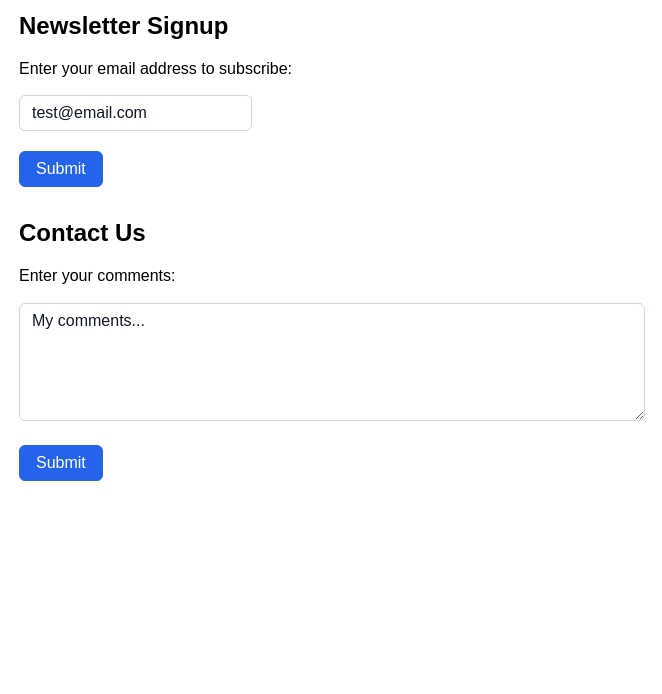
State Isolation render optimization › keeps sibling render counts isolated when each form is submitted
This screenshot has width=662, height=694.
Expected: the form with test id "newsletter-form" is shown, x1=19 y1=60 x2=292 y2=187
Expected: the form with test id "contact-form" is shown, x1=19 y1=267 x2=645 y2=481
# Submit "Newsletter" form
Click the button "Submit" below "Enter your email address to subscribe:" at x=61, y=169, box x1=19 y1=151 x2=103 y2=187
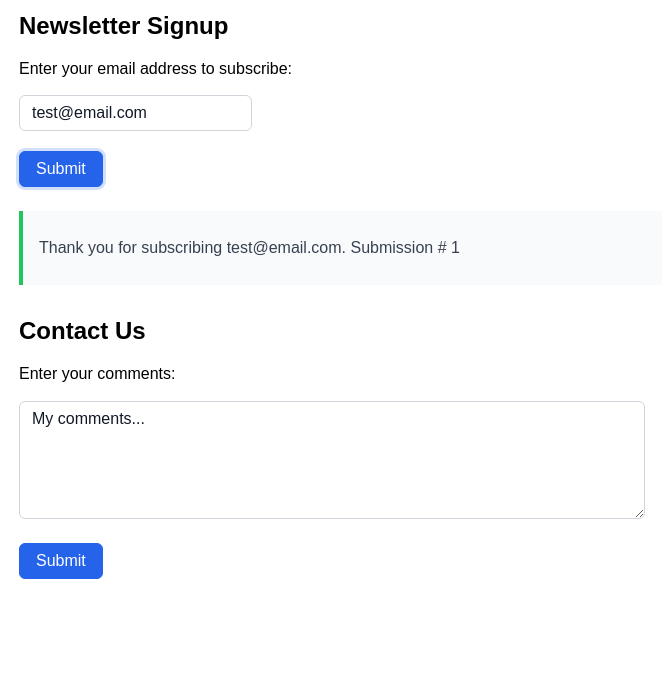
Result: the text "Thank you for subscribing test@email.com. Submission # 1" is shown at x1=39 y1=239 x2=460 y2=256
# Submit "Contact Us" form
Click the button "Submit" below "Enter your comments:" at x=61, y=561, box x1=19 y1=543 x2=103 y2=579
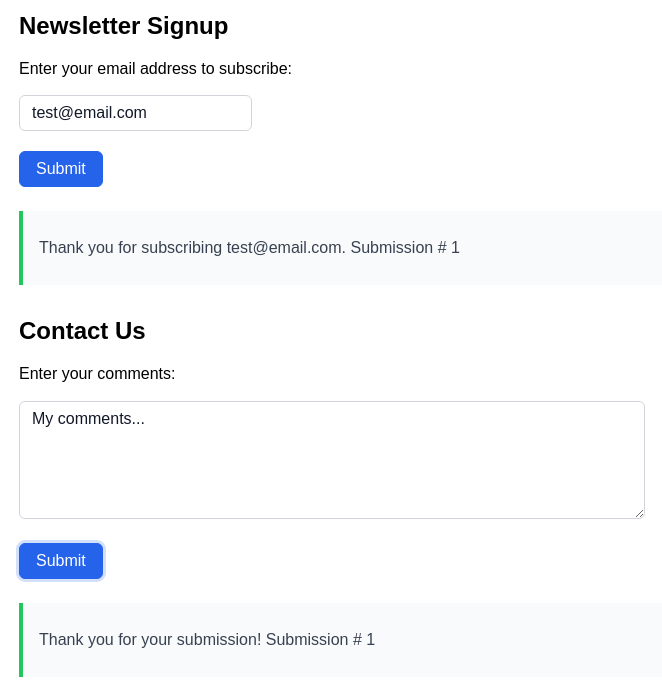
Result: the text "Thank you for your submission! Submission # 1" is shown at x1=39 y1=631 x2=375 y2=648
